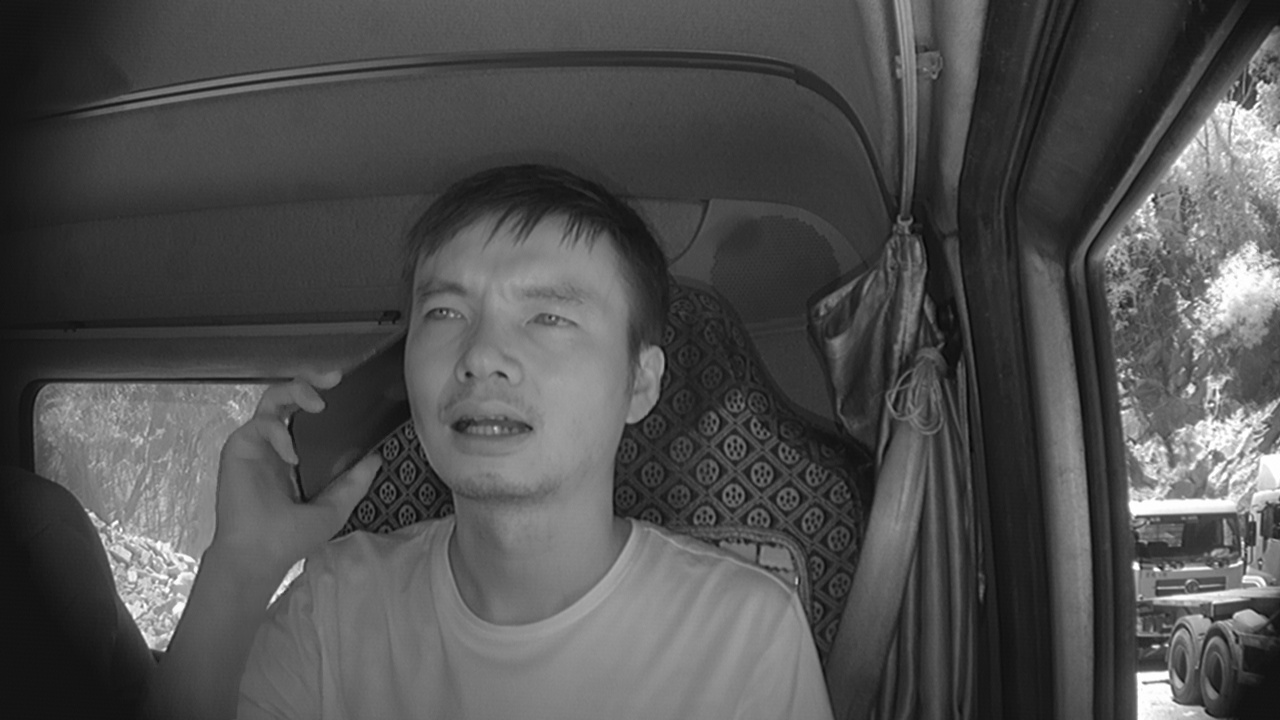hand: (215, 366, 373, 565)
